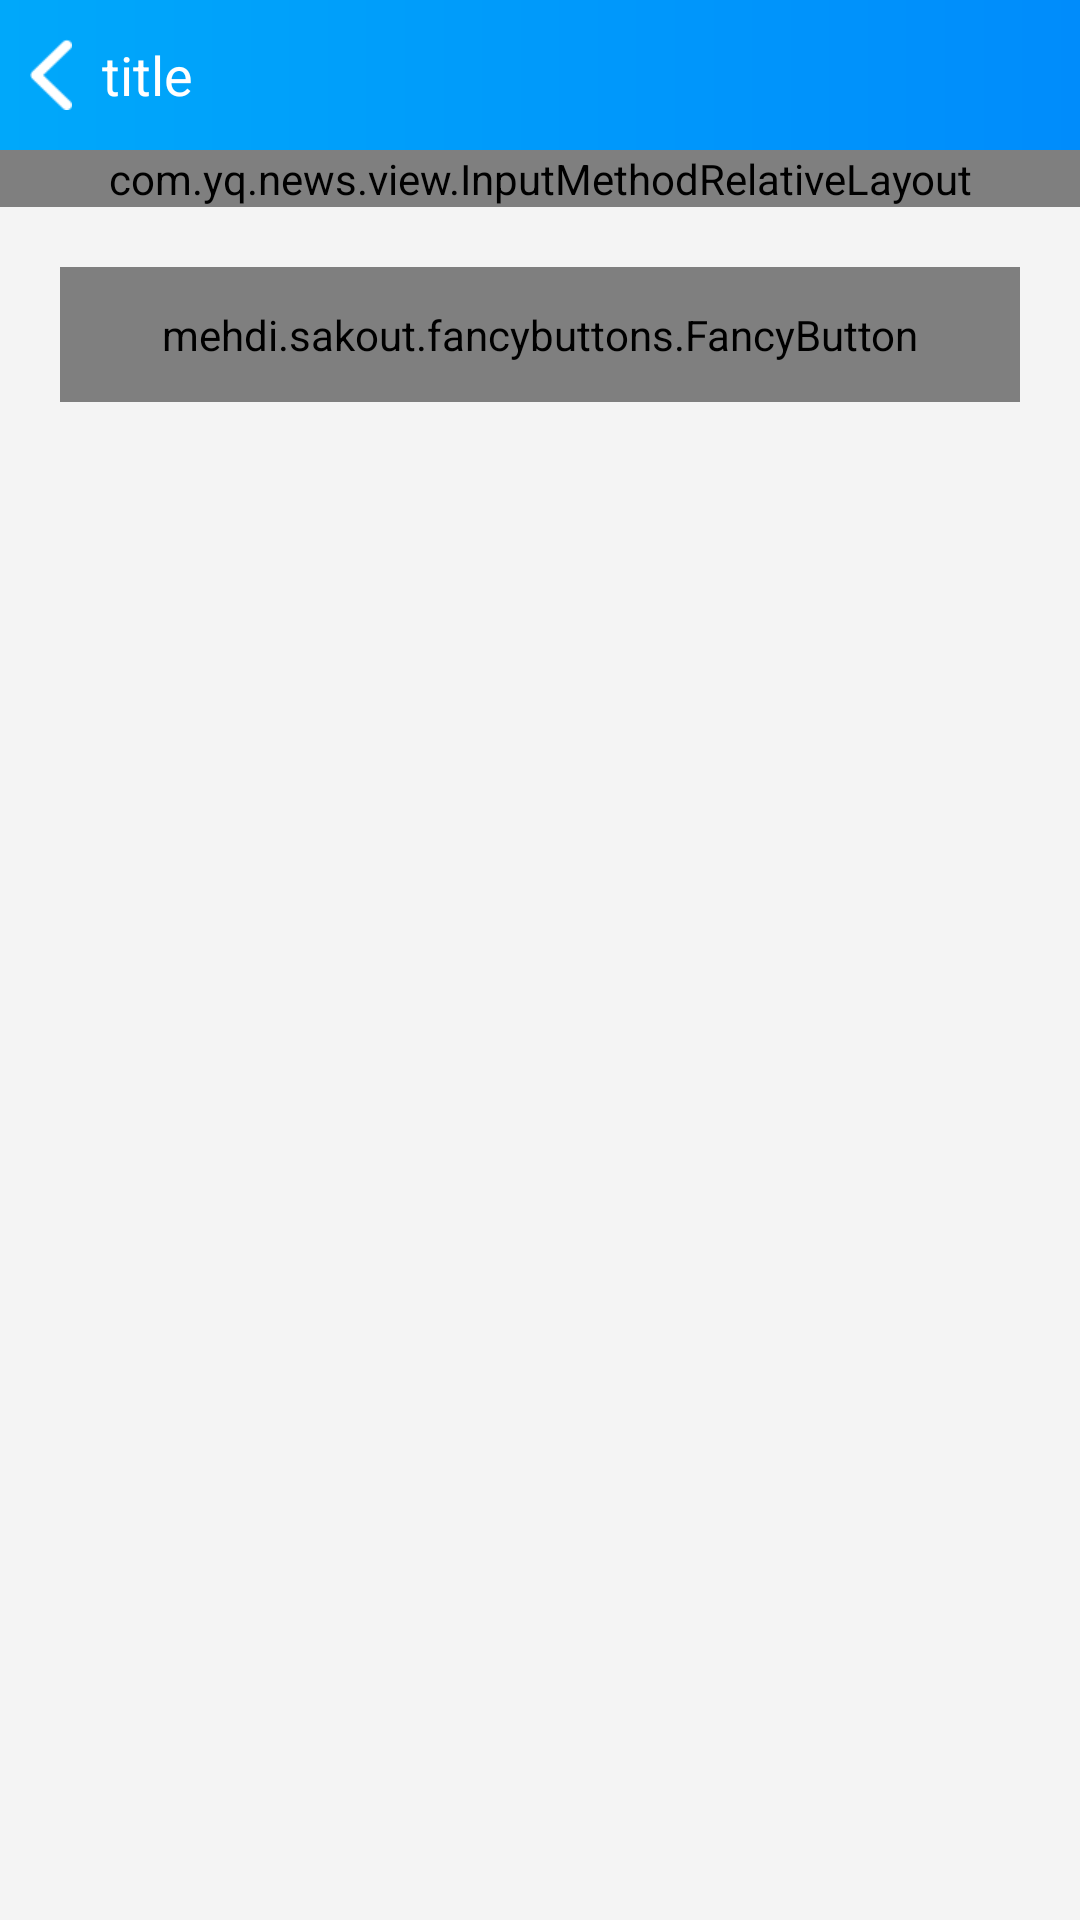

Locate icon controls on the screen. Image size 1080*1920, boxes as {"left": x1, "top": y1, "right": x2, "bottom": y2}.
back: {"left": 30, "top": 40, "right": 72, "bottom": 110}
